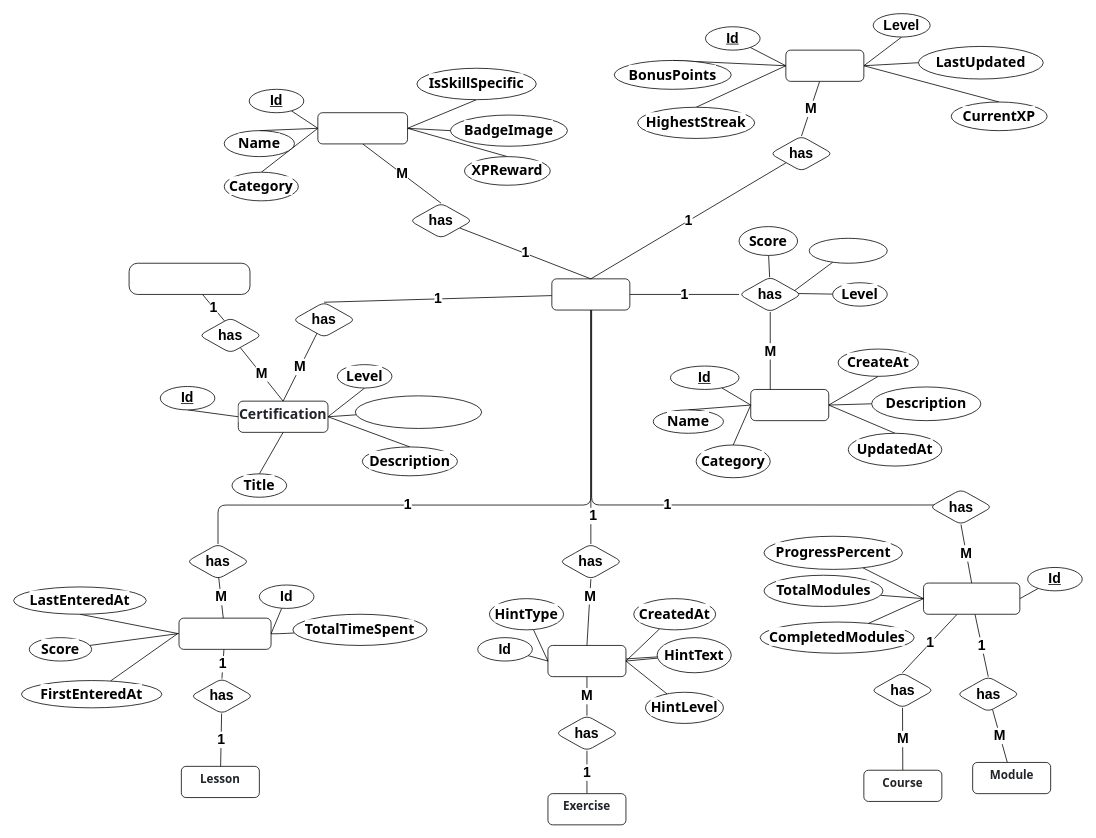
Image size: 1096x838. Some labels were removed from this diagram. Each missing label, with the centre of its shape:
"Achievements" goes at pixel 362 128.
"CourseProgress" goes at pixel 971 598.
"DeadlineDays" goes at pixel 418 411.
"Hints" goes at pixel 586 661.
"LearningPath" goes at pixel 189 278.
"LessonProgress" goes at pixel 224 633.
"Skills" goes at pixel 789 405.
"TotalXP" goes at pixel 847 250.
"User" goes at pixel 590 294.
"UserXP" goes at pixel 824 65.
